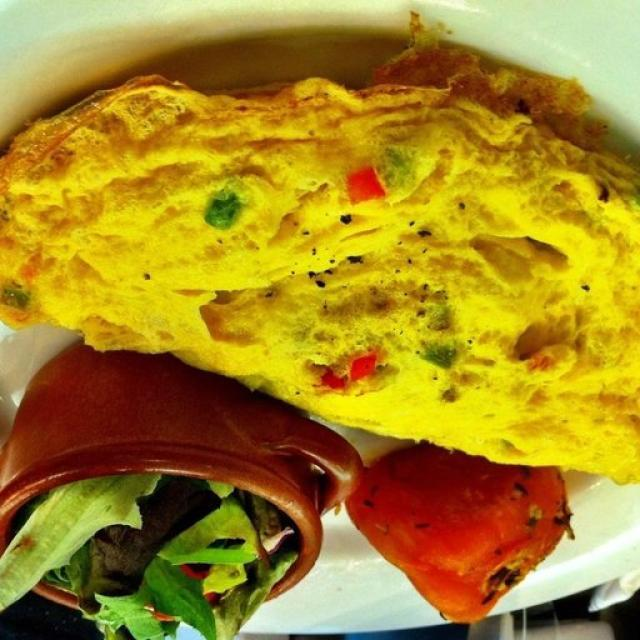telur_ayam_dadar: (1, 14, 640, 474)
